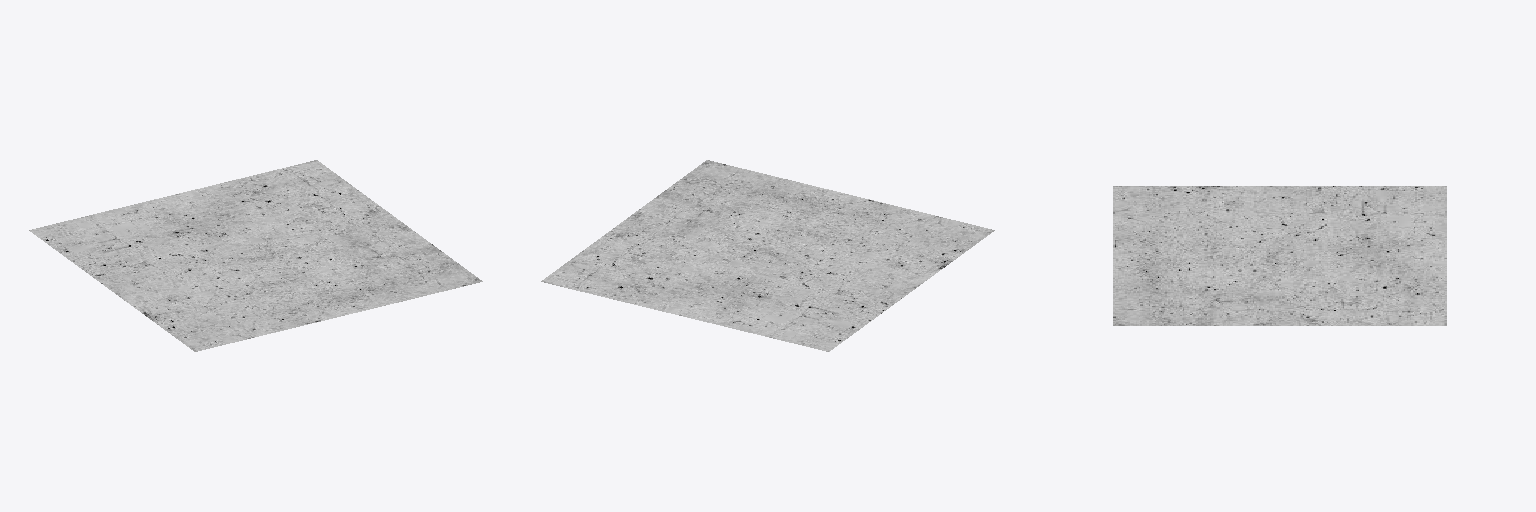
The picture shows the model from 3 angles: view 1: azimuth 30°, elevation 25°; view 2: azimuth 150°, elevation 25°; view 3: azimuth 270°, elevation 25°; orthographic projection.
Visible parts, largest first — view 1: walls_Plane.006_walls_Plane.007_walls_Plane.006_walls_Plane.000; view 2: walls_Plane.006_walls_Plane.007_walls_Plane.006_walls_Plane.000; view 3: walls_Plane.006_walls_Plane.007_walls_Plane.006_walls_Plane.000.
Boxes of the visible parts, box(x1,y1,x2,y2) form: walls_Plane.006_walls_Plane.007_walls_Plane.006_walls_Plane.000: box(29, 160, 482, 351); walls_Plane.006_walls_Plane.007_walls_Plane.006_walls_Plane.000: box(541, 160, 994, 351); walls_Plane.006_walls_Plane.007_walls_Plane.006_walls_Plane.000: box(1113, 186, 1446, 325).
Size of the model in its own units: 46.3 by 0 by 46.3.
Materials: 1 (1 with a texture image).